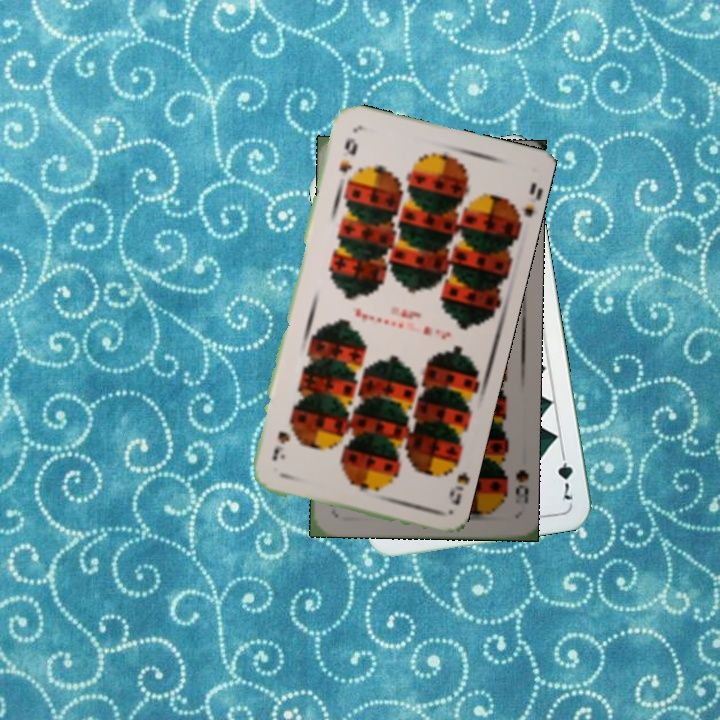G7: (553, 445, 576, 505)
S8: (511, 465, 531, 506)
S9: (443, 453, 470, 508), (335, 133, 360, 176)
